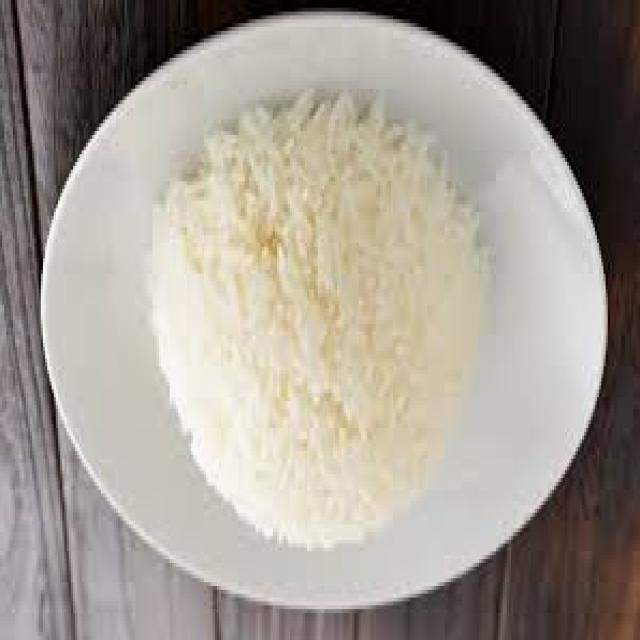nasi: (145, 98, 490, 554)
